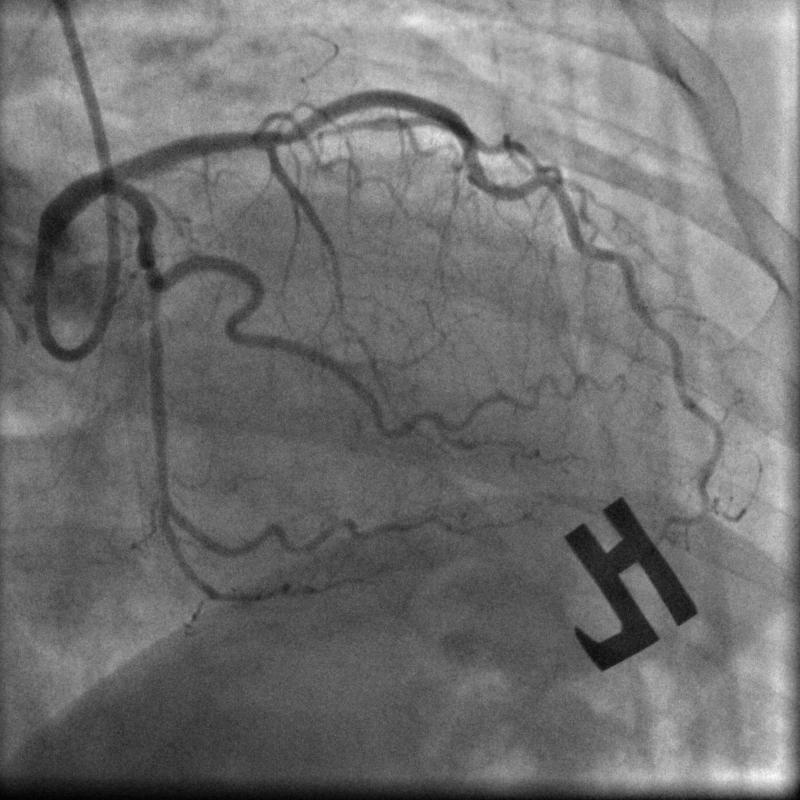Stenosis: (133, 211, 168, 283)
